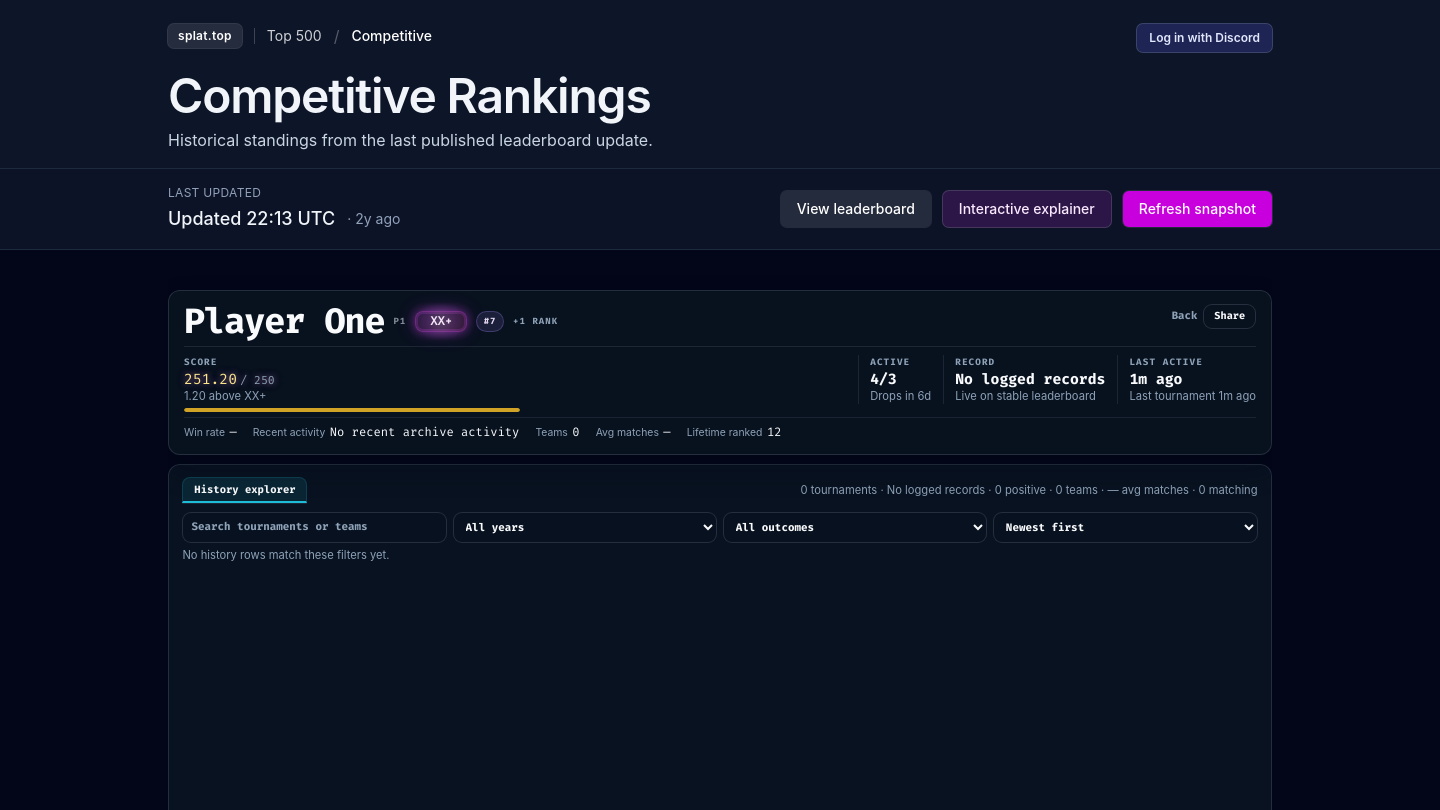
it: CompetitionPlayerPage › copies the profile link
Click the button "Share" at (1230, 316), box [1204, 304, 1256, 329]
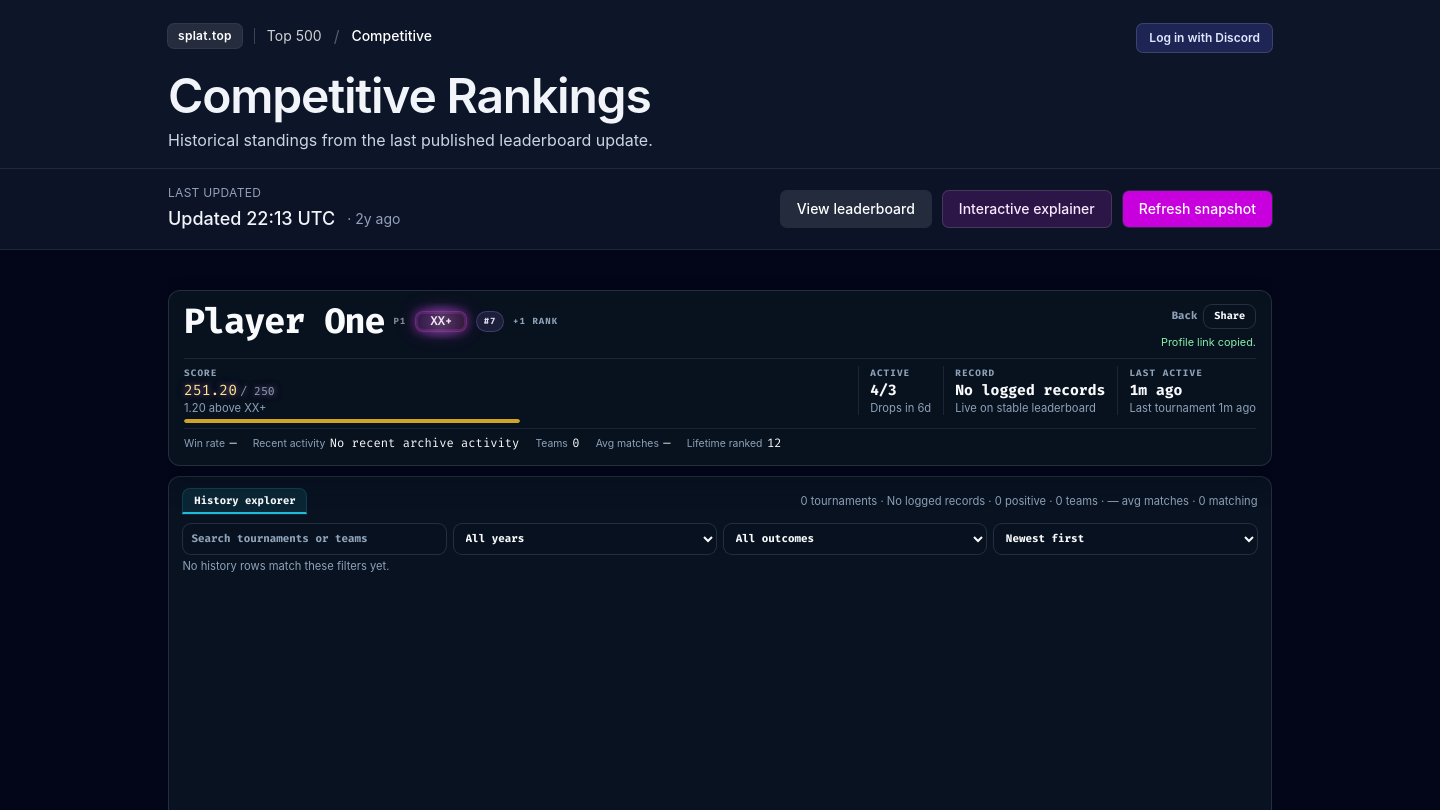
Now the text "Profile link copied." is shown, box [1161, 334, 1256, 350]
